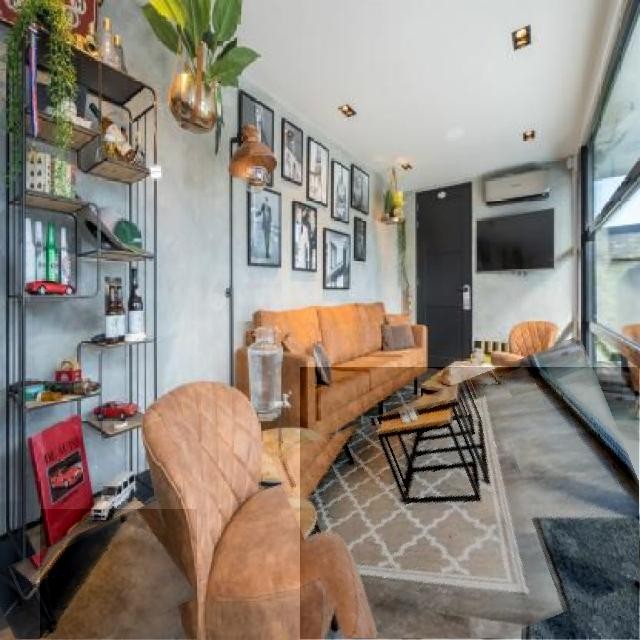floor: (301, 368, 640, 639), (41, 510, 197, 639)
